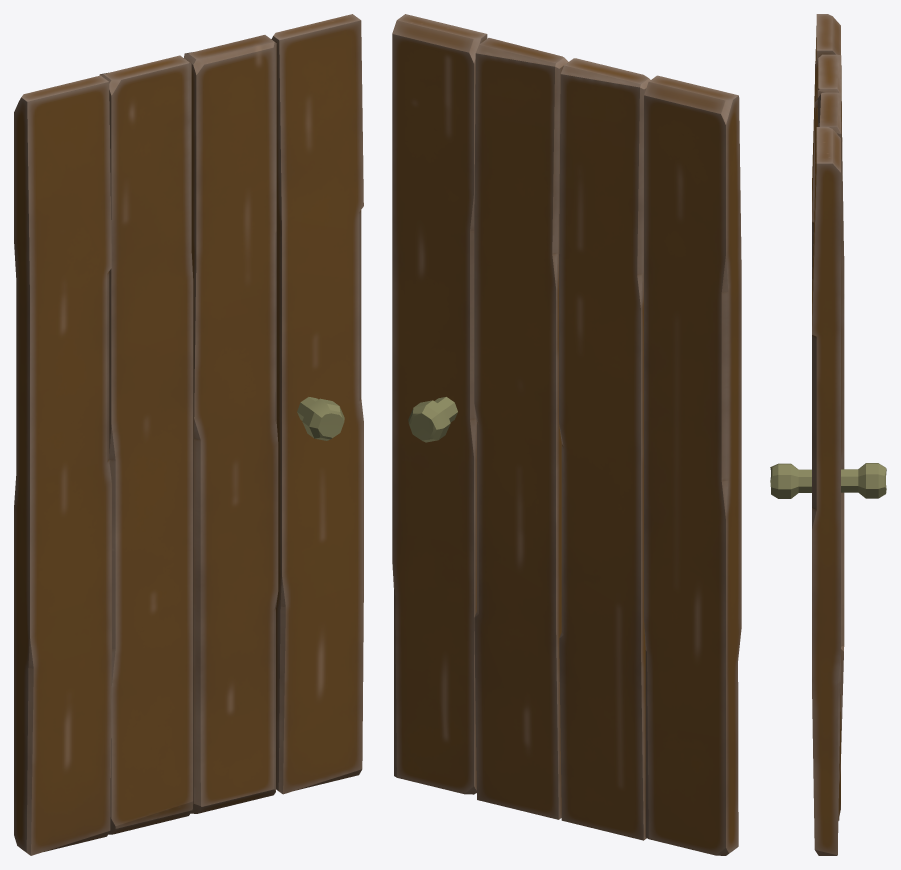
File: Door.fbx
The picture shows the model from 3 angles, left to right: view 1: azimuth 30°, elevation 25°; view 2: azimuth 150°, elevation 25°; view 3: azimuth 270°, elevation 25°; orthographic projection. The views are drawn at different scales.
Parts seen in each view (by area): view 1: door; view 2: door; view 3: door.
Boxes of the visible parts, x1,y1,x2,y2 form: door: [14, 14, 363, 855]; door: [392, 14, 741, 855]; door: [770, 14, 886, 855].
Bounding box in the file's own units: 37.74 × 12.4 × 81.74.
1 material, 1 textured.
